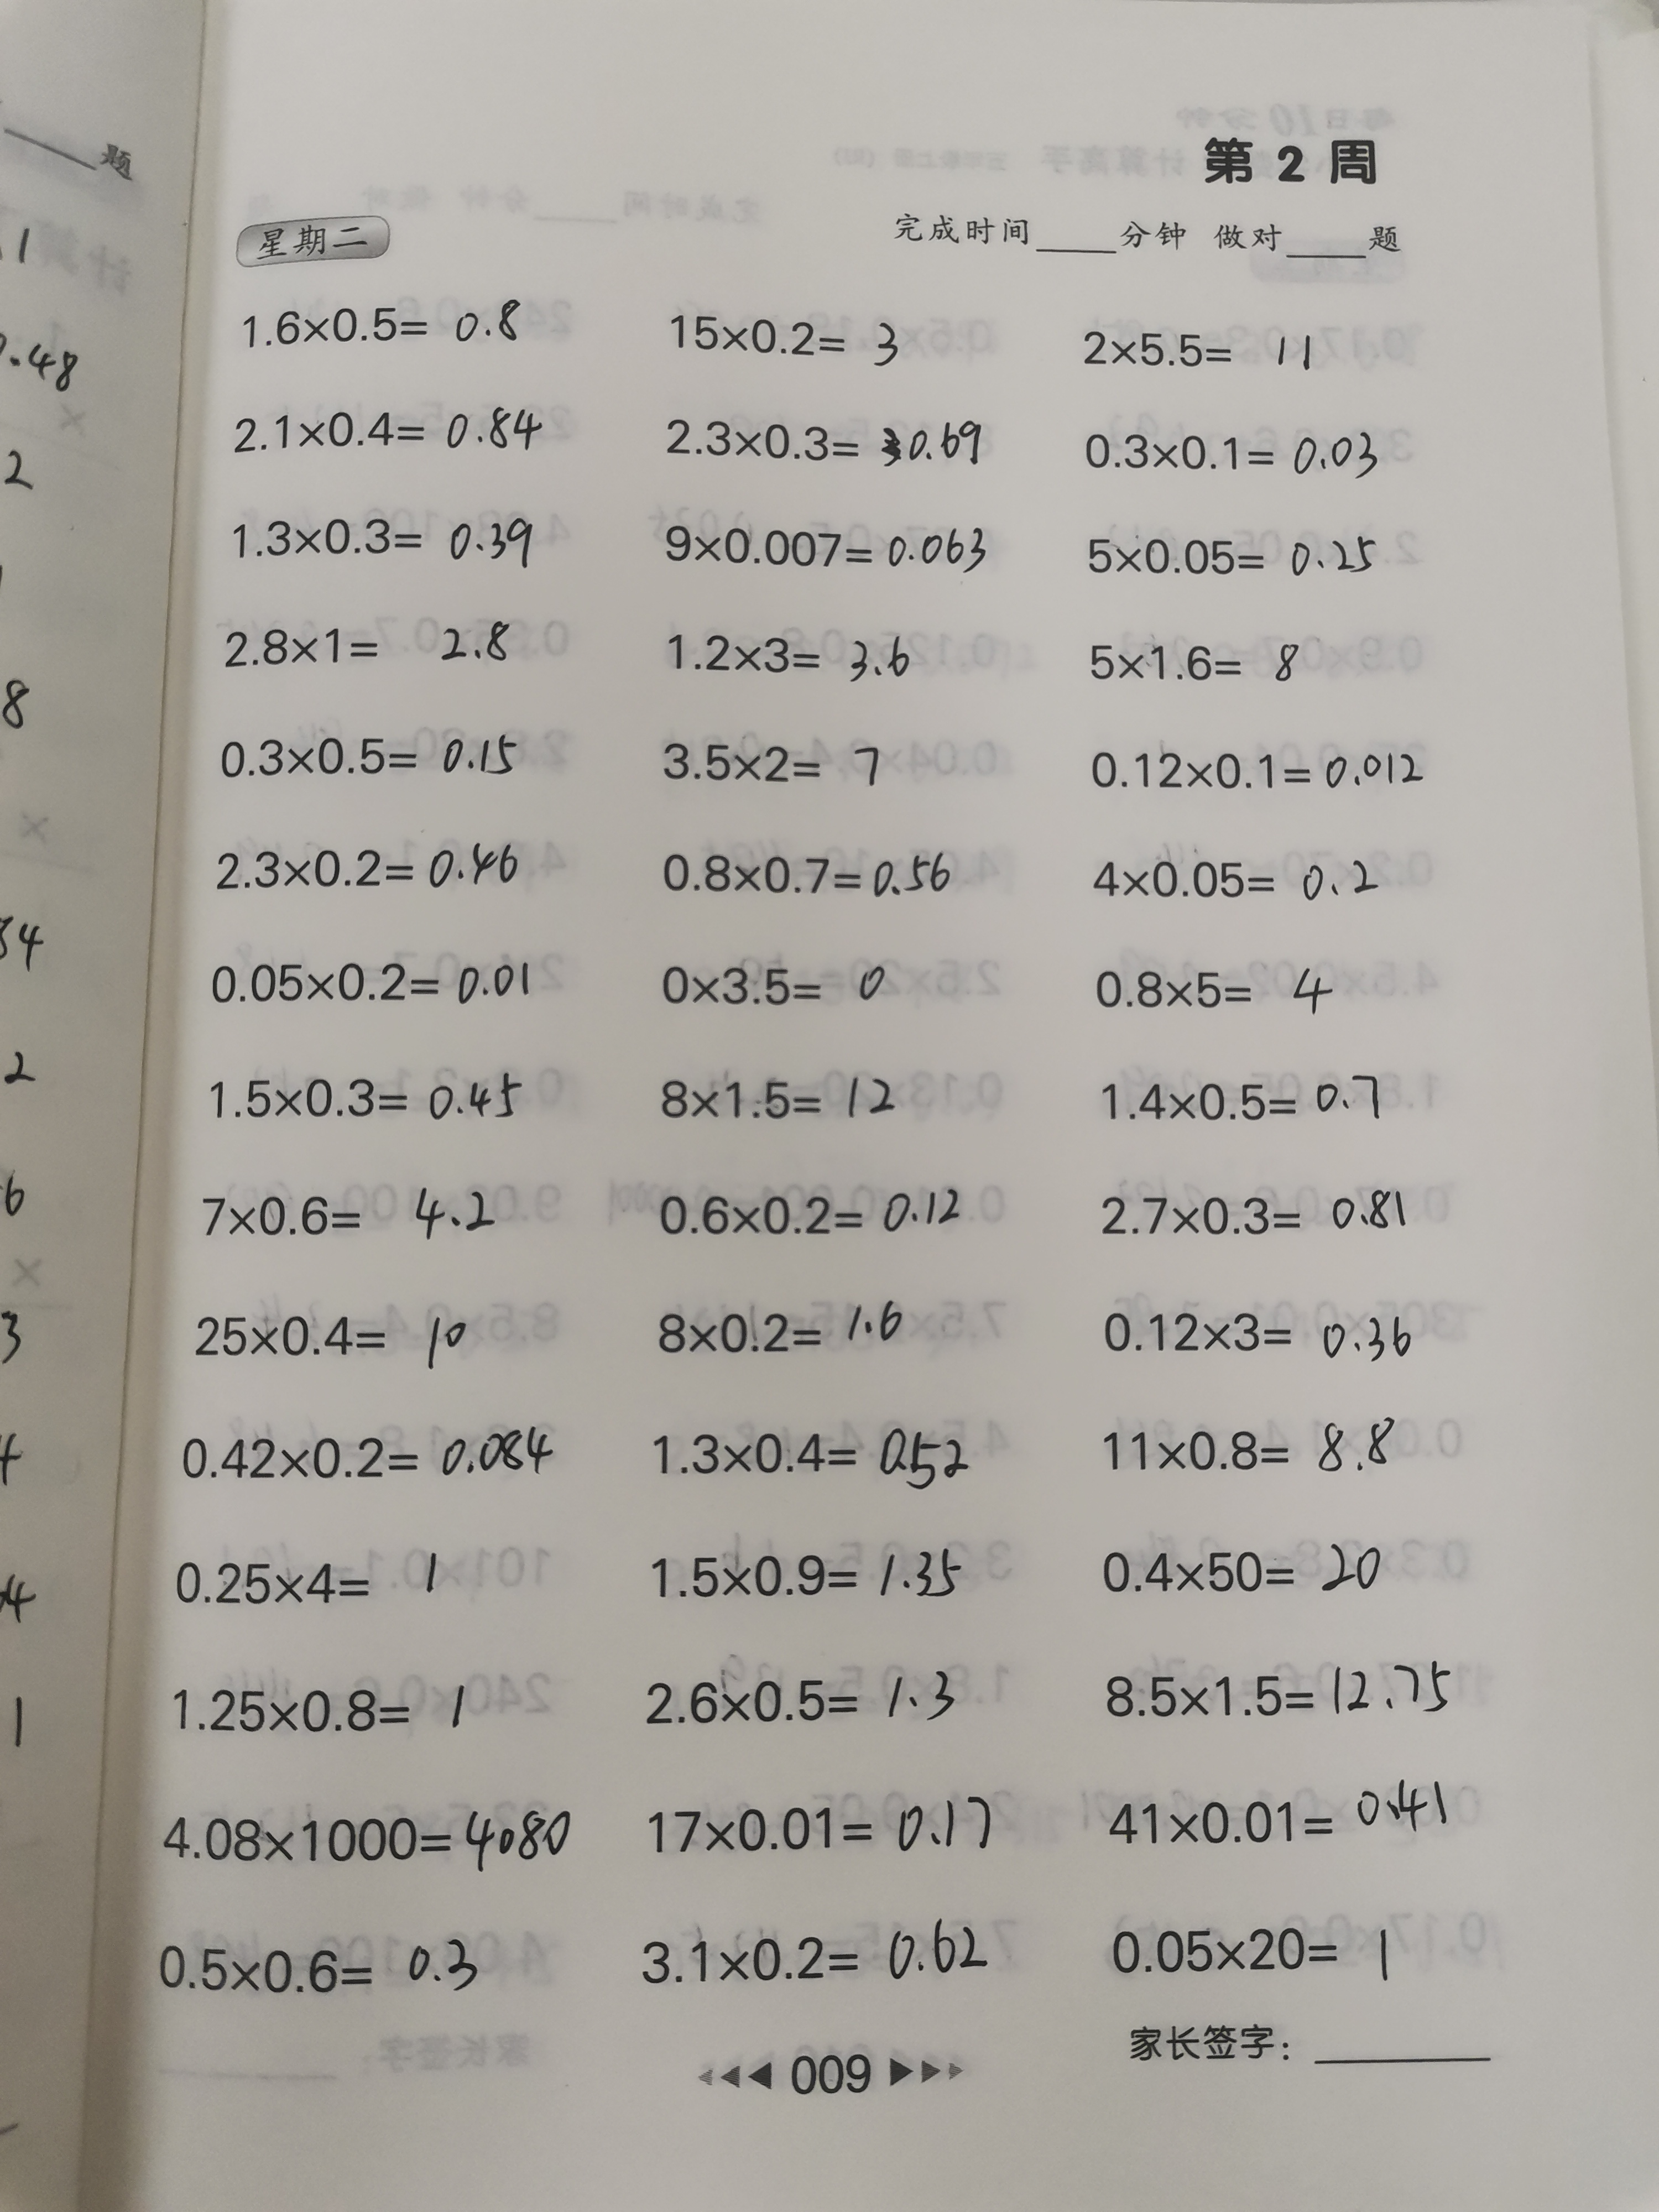equation: (159, 1796, 592, 1880), (621, 1902, 1005, 1987), (170, 1416, 570, 1493), (140, 1915, 502, 2000), (632, 1161, 990, 1246), (1082, 1770, 1471, 1847), (638, 1781, 1008, 1860), (630, 1532, 979, 1615), (1080, 1655, 1465, 1727), (1077, 1401, 1408, 1484), (645, 503, 1003, 579), (217, 494, 544, 577), (179, 1290, 494, 1375), (645, 1410, 980, 1489), (199, 944, 546, 1019), (1091, 1908, 1421, 1985), (220, 391, 549, 468), (638, 830, 961, 907), (654, 405, 1001, 477), (643, 608, 938, 691), (1074, 1060, 1406, 1134), (629, 1666, 973, 1736), (206, 717, 535, 791), (153, 1665, 481, 1738), (181, 1180, 516, 1251), (205, 828, 538, 900), (164, 1539, 472, 1615), (1086, 1530, 1401, 1604), (1069, 416, 1397, 487), (188, 1063, 535, 1130), (653, 293, 927, 376), (210, 610, 527, 682), (1084, 1301, 1427, 1368), (1074, 734, 1432, 796), (641, 1292, 933, 1362), (636, 946, 912, 1018), (1067, 520, 1388, 581), (1082, 1185, 1421, 1243), (228, 288, 538, 350), (1078, 850, 1394, 911), (1080, 951, 1348, 1021), (641, 1062, 914, 1130), (1071, 315, 1334, 383), (653, 728, 901, 795), (1063, 625, 1326, 684)
